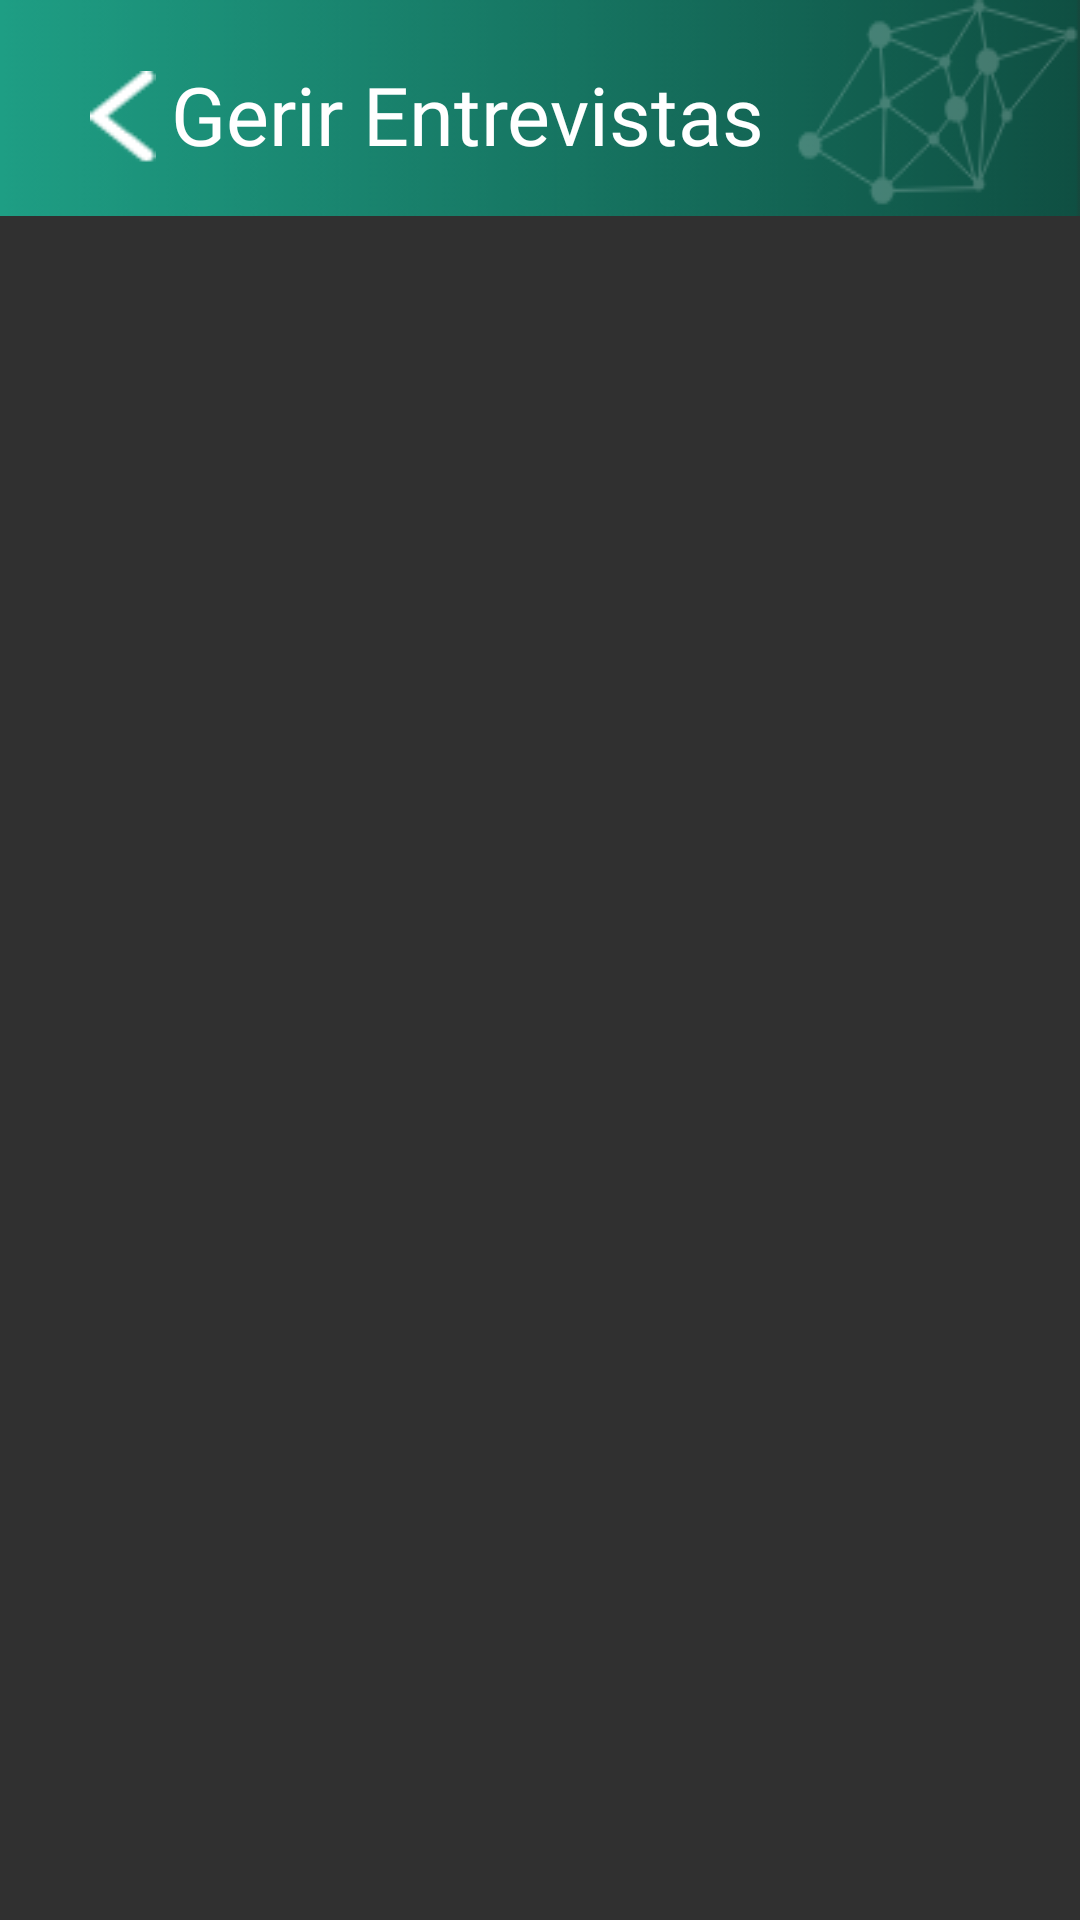

Icons on this 1080w x 1920h Android screen, each with its box as [x1=x1, y1=y1, x2=x2, y2=y2]:
back arrow: [x1=90, y1=71, x2=156, y2=162]
